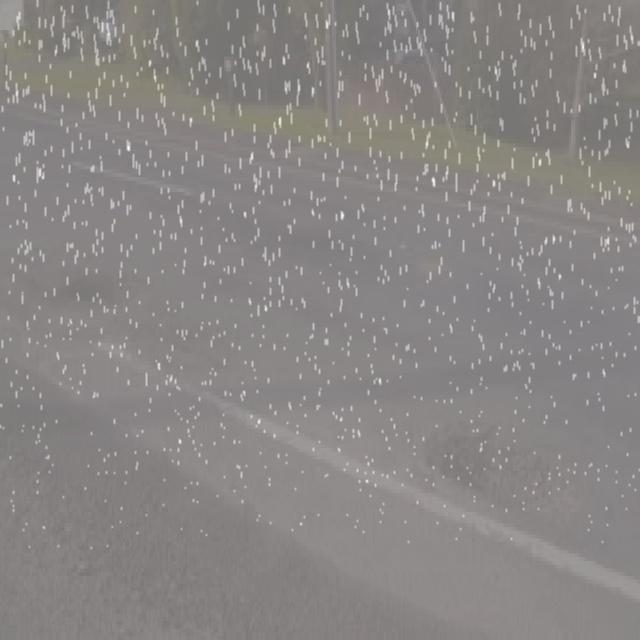Pothole: (428, 413, 598, 522)
